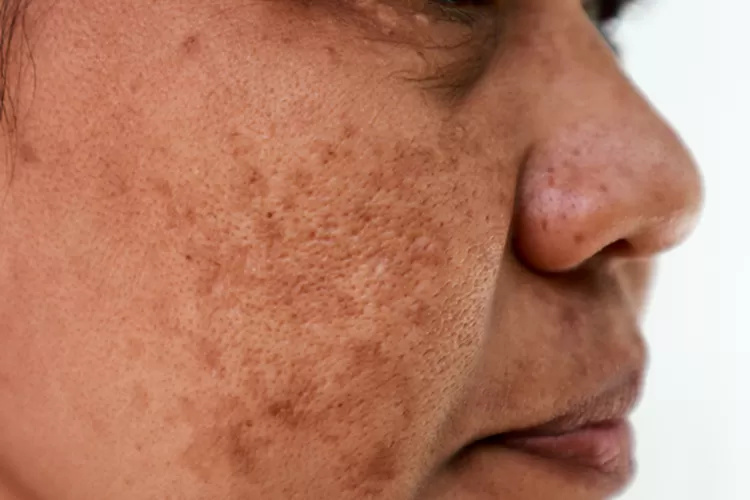Flek Hitam: (133, 68, 494, 500)
